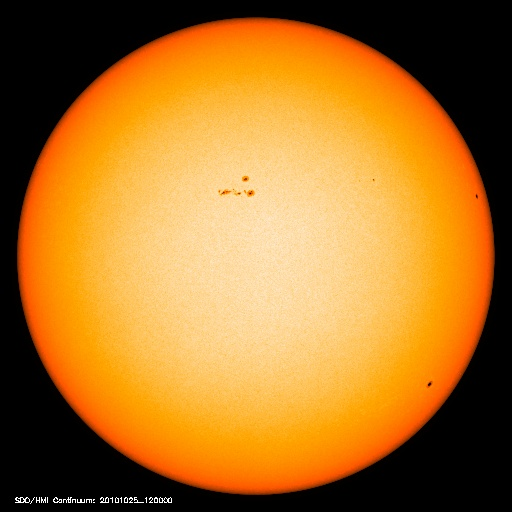sunspot: (211, 169, 262, 206), (416, 372, 445, 396), (361, 168, 386, 192), (467, 186, 489, 206)
